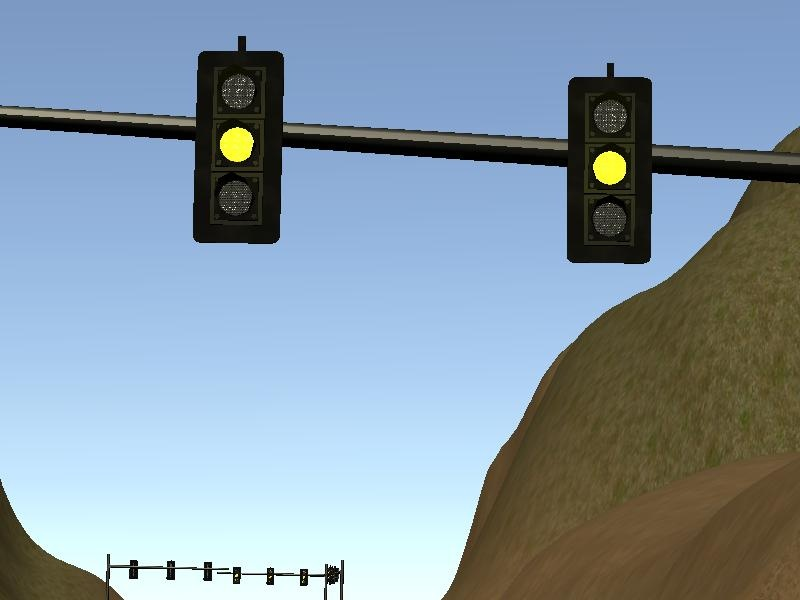yellow: (182, 35, 296, 261), (552, 59, 670, 277)
